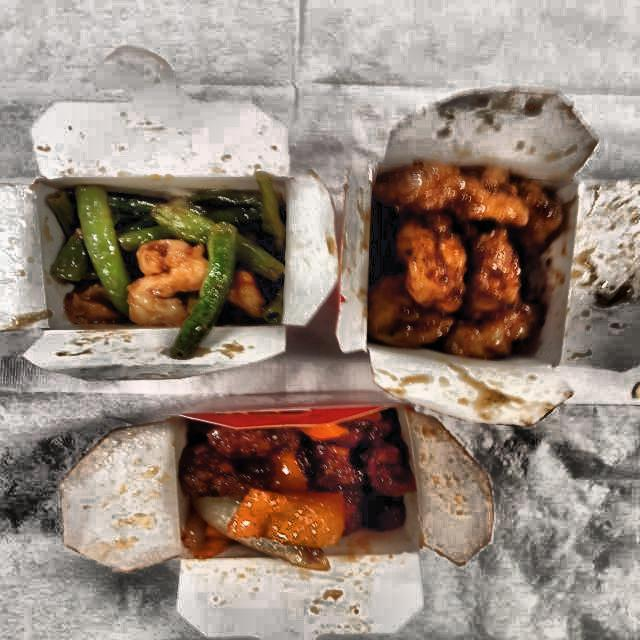Food: (355, 157, 575, 366), (44, 174, 300, 350), (170, 401, 425, 569)
